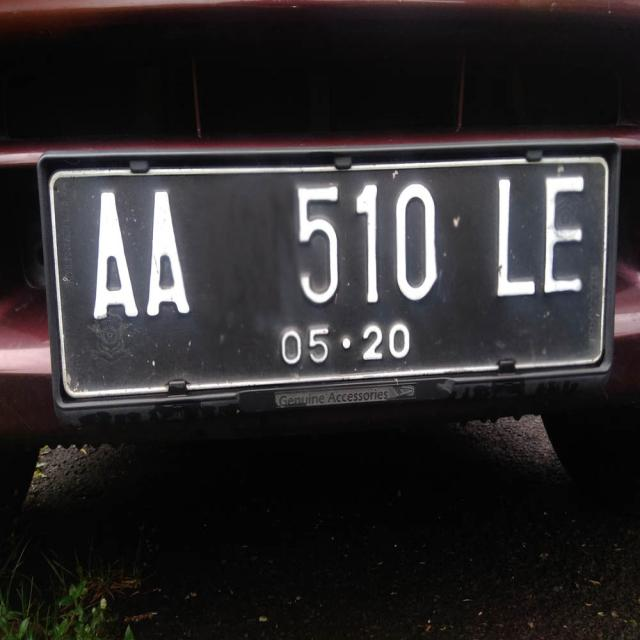plate: (49, 171, 603, 377)
